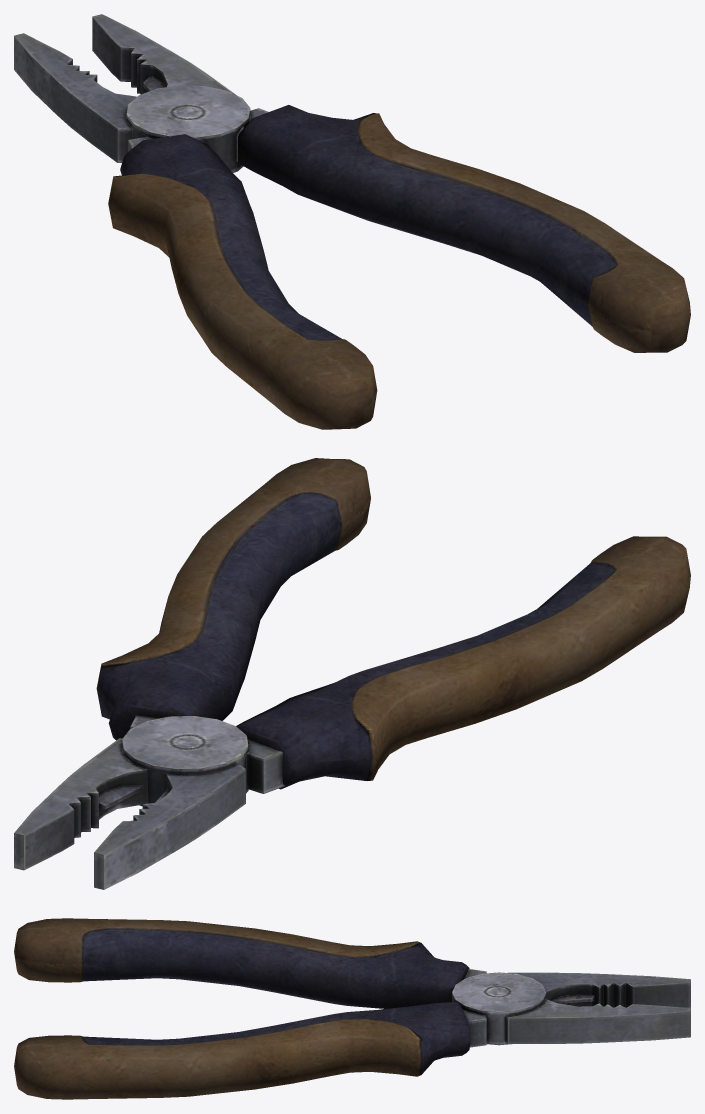
The model's file is pliers_standard.dae.
3 renders of one model, top to bottom at view 1: azimuth 30°, elevation 25°; view 2: azimuth 150°, elevation 25°; view 3: azimuth 270°, elevation 25°, orthographic. The views are drawn at different scales.
Visible parts, largest first — view 1: pliers_standard; view 2: pliers_standard; view 3: pliers_standard.
Part boxes in pixels (x1,y1,x2,y2): pliers_standard: (14, 14, 690, 429); pliers_standard: (14, 458, 690, 889); pliers_standard: (14, 918, 690, 1099).
Size of the model in its own units: 5.99 by 0.8541 by 11.66.
